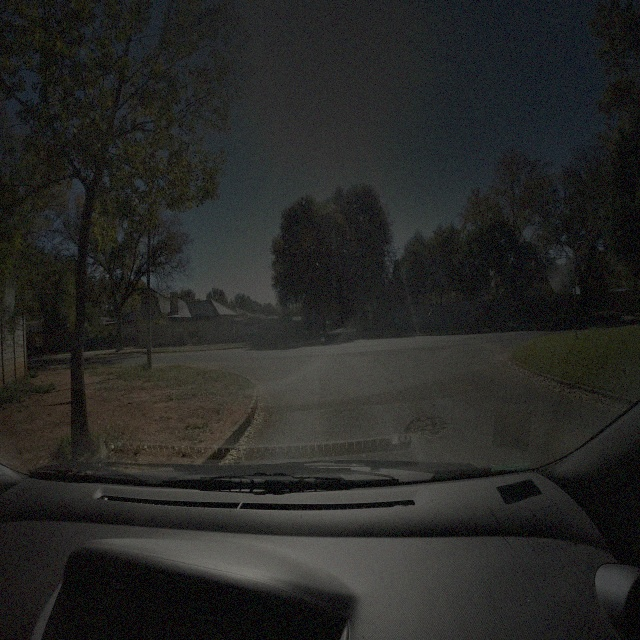pothole: (405, 413, 449, 438)
